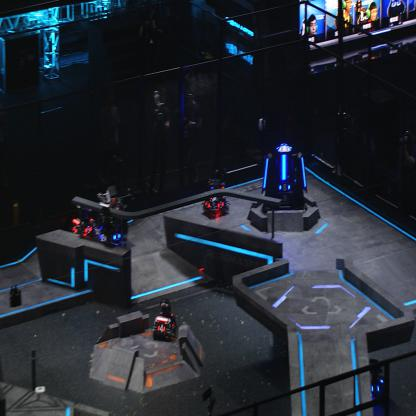car: (98, 197, 127, 250), (359, 355, 387, 399), (202, 175, 229, 218), (73, 202, 101, 242), (152, 297, 176, 340)
